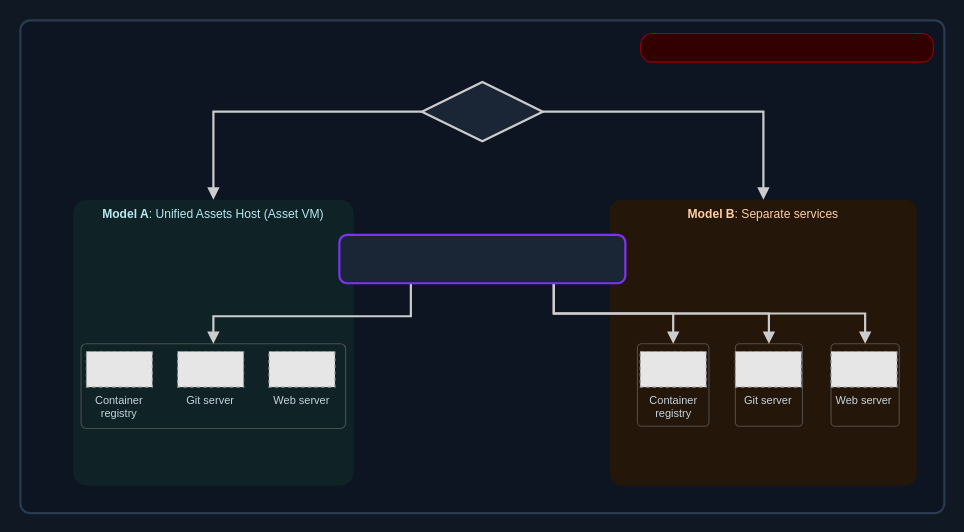
This 964x532 diagram has some shape labels left out. Grey dashed boxes stand in for pictures. The centre of each missing label's shape, as x and y in pixels:
"AIR-GAPPED ENVIRONMENT (Disconnected)" goes at (x=786, y=47).
"Hosting model?" goes at (x=481, y=111).
"Installer host (air-gapped) load (upload) asset bundles" goes at (x=482, y=258).
